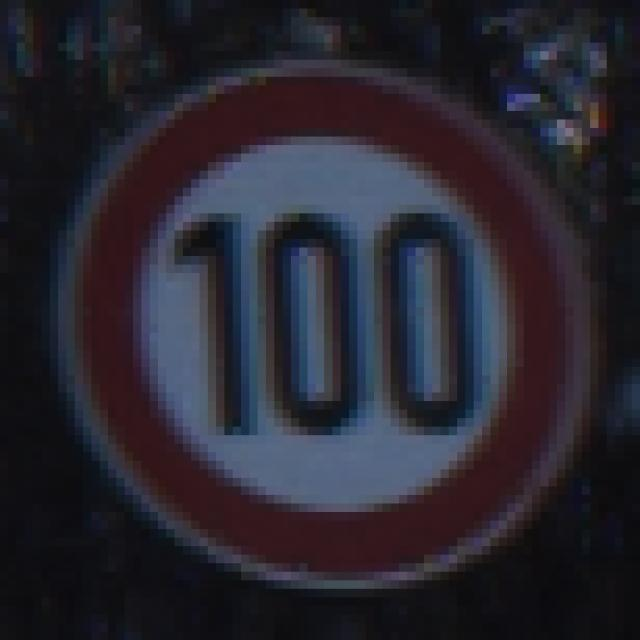speed limit 100: (42, 52, 601, 592)
